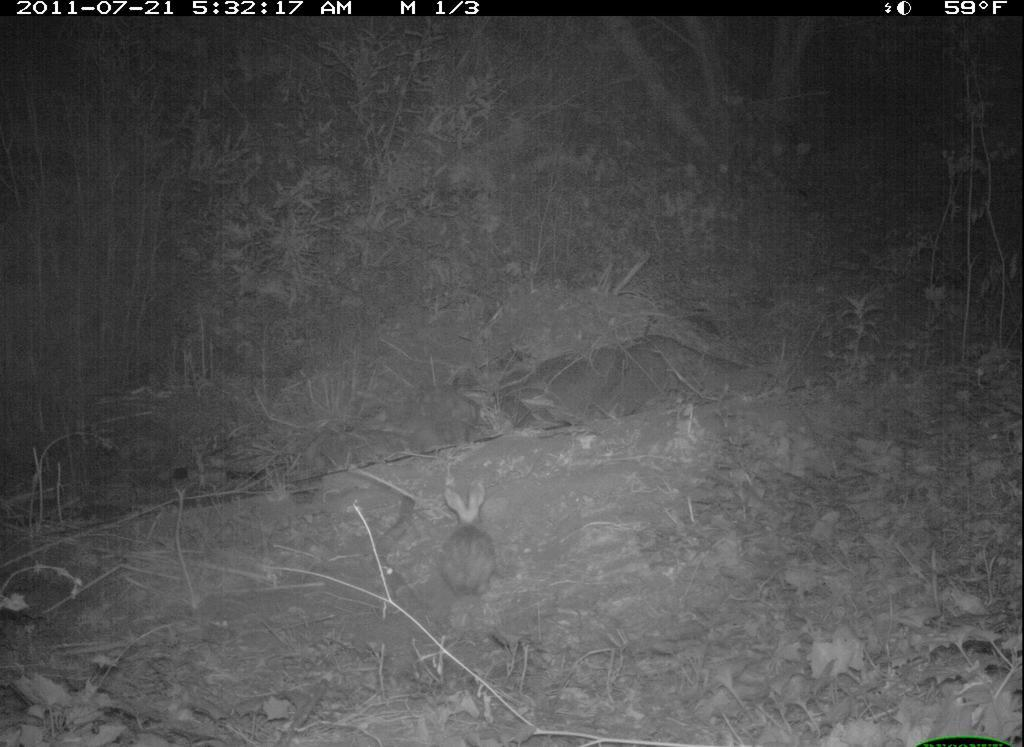rabbit: (434, 472, 504, 601)
